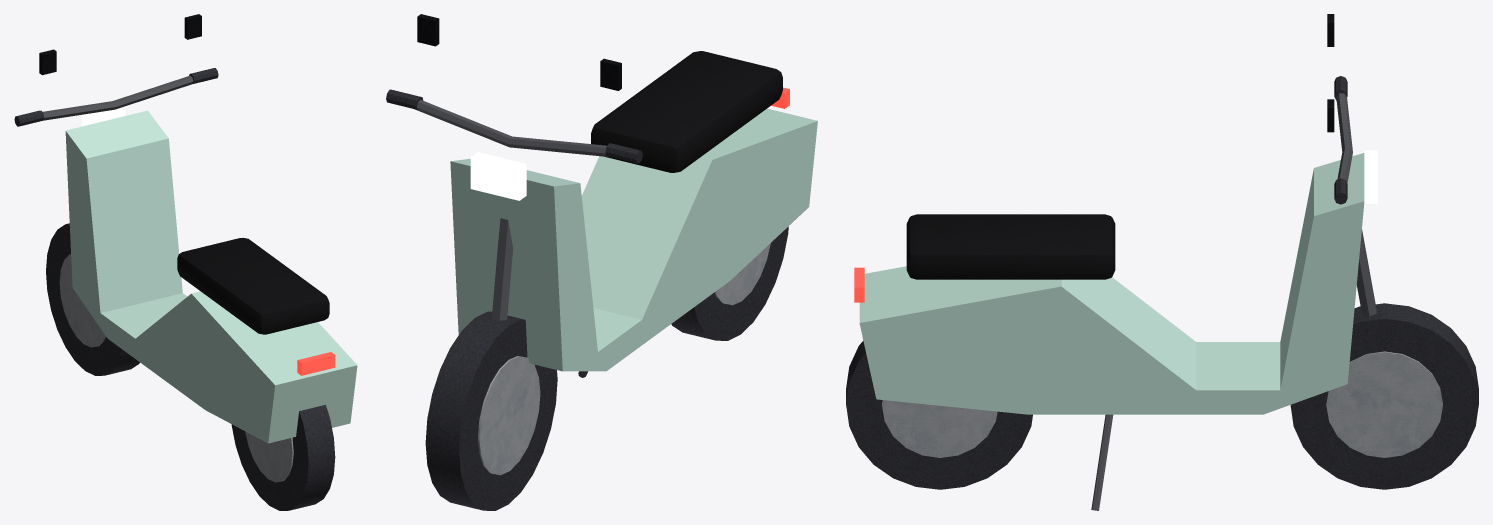
File: scooter_mint.gltf
3 renders of one model, left to right at view 1: azimuth 30°, elevation 25°; view 2: azimuth 150°, elevation 25°; view 3: azimuth 270°, elevation 25°, orthographic. The views are drawn at different scales.
Visible parts, largest first — view 1: scooter_mint; view 2: scooter_mint; view 3: scooter_mint.
Part boxes in pixels (bbox=[...]): scooter_mint: bbox=[14, 14, 357, 510]; scooter_mint: bbox=[386, 14, 817, 510]; scooter_mint: bbox=[846, 14, 1478, 510].
Bounding box in the file's own units: 0.82 × 1.38 × 1.88.
9 materials, 6 textured.
